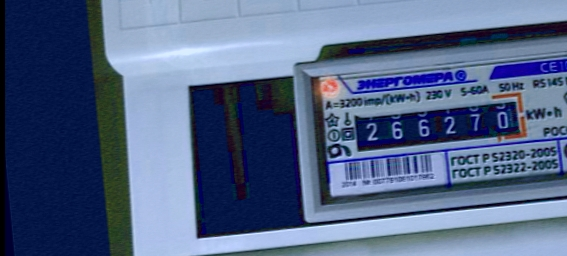0: (496, 108, 510, 130)
2: (365, 119, 381, 141), (443, 113, 457, 135)
6: (391, 119, 406, 140), (417, 116, 431, 136)
7: (468, 110, 483, 132)
screen: (344, 86, 536, 161)
